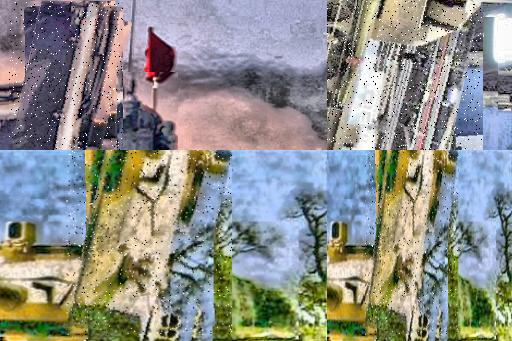tanks: (68, 151, 233, 336), (328, 1, 483, 151), (366, 151, 459, 336), (11, 3, 124, 151)
